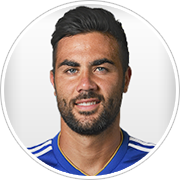face: (47, 35, 134, 128)
